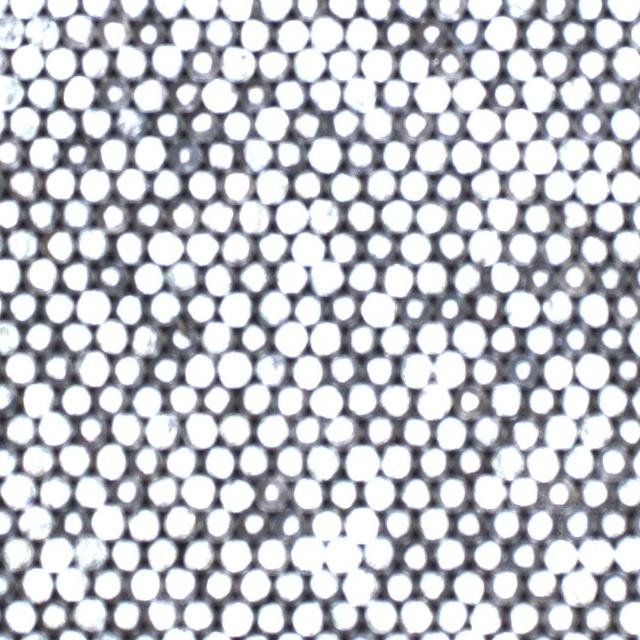tool: (37, 534, 73, 570), (145, 410, 181, 446), (470, 472, 506, 508), (414, 382, 450, 418), (72, 532, 108, 568), (342, 566, 378, 602), (2, 348, 38, 384), (218, 475, 254, 511), (468, 598, 504, 634), (162, 564, 198, 600), (560, 567, 596, 603), (486, 566, 522, 602), (92, 441, 128, 477), (53, 564, 88, 600), (343, 505, 379, 540), (505, 228, 540, 264), (503, 105, 538, 141), (578, 412, 613, 448), (1, 533, 36, 569), (342, 74, 377, 110), (578, 535, 613, 571), (324, 411, 359, 447), (542, 536, 577, 572), (379, 74, 414, 110), (128, 320, 163, 356), (218, 598, 253, 634), (306, 196, 341, 232), (255, 410, 290, 446), (273, 257, 308, 293), (181, 535, 216, 571), (308, 381, 343, 417), (253, 349, 288, 385), (432, 350, 467, 386), (325, 535, 360, 571), (414, 76, 450, 111), (449, 136, 484, 172), (398, 350, 433, 386), (0, 471, 35, 507), (37, 409, 73, 444), (484, 196, 519, 232), (126, 504, 161, 540), (216, 349, 252, 384), (360, 290, 396, 325), (344, 444, 379, 480), (218, 288, 253, 324), (17, 502, 53, 537), (360, 532, 395, 568), (163, 502, 198, 538), (2, 596, 37, 632), (184, 229, 219, 265), (255, 475, 290, 511), (413, 136, 448, 172), (398, 597, 433, 633), (504, 166, 539, 202), (236, 198, 272, 233), (236, 319, 272, 354), (361, 474, 397, 509), (132, 14, 168, 49), (520, 75, 555, 110), (219, 229, 254, 264), (144, 535, 179, 570), (166, 197, 201, 232), (326, 228, 361, 263), (148, 228, 183, 263), (290, 230, 325, 265), (485, 136, 520, 171), (557, 74, 592, 109), (433, 413, 468, 448), (470, 535, 505, 570), (218, 410, 253, 445), (466, 105, 501, 140), (433, 474, 468, 509), (254, 598, 289, 633), (504, 290, 539, 325), (396, 46, 431, 81), (75, 348, 110, 383), (255, 228, 290, 263), (467, 45, 502, 80), (290, 535, 325, 570), (379, 197, 414, 232), (452, 383, 487, 418), (219, 44, 254, 79), (20, 441, 55, 476), (290, 352, 325, 387), (291, 289, 326, 324), (470, 411, 505, 446), (180, 473, 215, 508), (37, 472, 72, 507), (540, 229, 575, 264), (542, 598, 577, 633), (236, 566, 271, 601), (362, 411, 397, 446), (486, 258, 521, 293), (326, 595, 361, 630), (345, 380, 379, 416), (398, 228, 432, 264), (468, 228, 502, 264), (255, 534, 289, 570), (90, 502, 124, 538), (344, 258, 380, 292), (25, 255, 59, 291), (520, 198, 556, 232), (183, 410, 217, 446), (308, 257, 342, 293), (506, 598, 540, 634), (380, 442, 414, 478), (522, 136, 556, 172), (433, 534, 467, 570), (26, 72, 60, 108), (381, 504, 415, 540), (78, 102, 112, 138), (308, 319, 342, 355), (360, 104, 394, 140), (9, 42, 43, 78), (7, 103, 41, 139), (236, 258, 272, 292), (452, 318, 486, 354), (362, 597, 396, 633), (557, 135, 591, 170), (165, 380, 200, 414), (127, 565, 161, 600), (43, 105, 77, 140), (306, 564, 341, 598), (344, 196, 378, 231), (131, 135, 166, 169), (327, 105, 361, 140), (202, 75, 236, 110), (379, 381, 413, 416), (256, 288, 290, 323), (290, 599, 324, 634), (218, 536, 252, 571), (524, 382, 558, 417), (274, 381, 308, 416), (558, 382, 592, 417), (202, 260, 236, 295), (130, 381, 164, 416), (290, 474, 324, 509), (450, 260, 484, 295), (559, 503, 593, 538), (201, 566, 236, 600), (201, 197, 235, 232), (20, 564, 54, 599), (576, 351, 610, 386), (416, 505, 451, 539), (595, 504, 630, 538), (182, 350, 216, 385), (147, 289, 182, 323), (40, 347, 74, 382), (5, 225, 39, 260), (75, 409, 109, 444), (256, 45, 290, 80), (453, 505, 487, 540), (274, 197, 308, 232), (432, 45, 466, 80), (523, 505, 557, 540), (543, 475, 578, 509), (557, 197, 591, 232), (90, 564, 125, 598), (508, 413, 542, 448), (505, 350, 540, 384), (469, 350, 503, 385), (129, 442, 164, 476), (165, 258, 200, 292), (557, 321, 592, 355), (397, 537, 432, 571), (306, 442, 340, 477), (201, 504, 236, 538), (432, 105, 466, 140), (202, 443, 237, 477), (574, 168, 608, 203), (415, 259, 449, 294), (326, 350, 361, 384), (344, 135, 378, 170), (131, 196, 165, 231), (150, 42, 184, 77), (164, 442, 199, 476), (326, 474, 360, 509), (542, 412, 576, 447), (524, 320, 558, 355), (74, 472, 108, 507), (469, 287, 504, 321), (381, 566, 416, 600), (524, 565, 559, 599), (576, 290, 610, 325), (55, 503, 90, 537), (488, 505, 522, 540), (112, 289, 146, 324), (540, 289, 575, 323), (558, 259, 593, 293), (596, 443, 630, 478), (180, 596, 215, 630), (344, 15, 378, 50), (598, 568, 633, 602), (468, 166, 502, 201), (591, 136, 625, 171), (168, 137, 203, 171), (200, 318, 234, 353), (72, 595, 107, 629), (525, 444, 560, 478), (488, 381, 523, 415), (58, 381, 92, 416), (362, 228, 396, 263), (594, 258, 628, 293), (110, 472, 144, 507), (326, 168, 361, 202), (489, 443, 524, 477), (220, 167, 254, 202), (273, 320, 307, 355), (144, 595, 179, 629), (522, 260, 557, 294), (61, 135, 95, 170), (109, 535, 142, 571), (76, 288, 110, 322), (42, 226, 76, 260), (76, 226, 110, 260), (307, 136, 341, 170), (254, 105, 288, 139), (21, 380, 55, 414), (594, 382, 628, 416), (26, 134, 60, 168), (96, 135, 130, 169), (94, 380, 128, 414), (26, 12, 60, 46), (78, 44, 112, 78), (204, 136, 238, 170), (380, 260, 414, 294), (291, 45, 325, 79), (451, 76, 485, 110), (56, 440, 90, 474), (44, 44, 78, 78), (452, 568, 486, 602), (308, 76, 342, 110), (506, 473, 540, 507), (114, 44, 148, 78), (168, 78, 202, 112), (574, 106, 608, 140), (183, 289, 217, 323), (41, 288, 75, 322), (397, 107, 431, 141), (238, 380, 272, 414), (399, 413, 433, 447), (5, 287, 39, 321), (415, 198, 449, 232), (504, 46, 538, 80), (272, 566, 306, 600), (290, 411, 324, 445), (432, 168, 466, 202), (254, 167, 288, 201), (239, 136, 273, 170), (508, 536, 542, 570), (61, 74, 95, 108), (484, 14, 518, 48), (398, 475, 432, 509), (98, 74, 132, 108), (398, 290, 432, 324), (308, 506, 342, 540), (132, 76, 166, 110), (114, 104, 148, 138), (540, 352, 574, 386), (308, 15, 342, 49), (94, 258, 128, 292), (580, 599, 614, 633), (43, 164, 77, 198), (561, 443, 595, 477), (59, 258, 93, 292), (61, 12, 95, 46), (434, 596, 468, 630), (360, 46, 394, 80), (290, 106, 324, 140), (380, 15, 414, 49), (168, 14, 202, 48), (114, 166, 148, 200), (415, 566, 449, 600), (110, 410, 144, 444), (274, 17, 308, 51), (22, 318, 56, 352), (238, 16, 272, 50), (538, 45, 572, 79), (112, 351, 146, 385), (594, 321, 628, 355), (416, 443, 450, 477), (146, 472, 180, 506), (184, 166, 218, 200), (58, 318, 92, 352), (94, 318, 128, 352), (415, 17, 449, 51), (449, 16, 483, 50), (8, 165, 42, 199), (37, 596, 71, 630), (362, 166, 396, 200), (415, 319, 449, 353), (184, 45, 218, 79), (165, 318, 199, 352), (25, 195, 58, 230), (451, 197, 484, 232), (327, 45, 360, 80), (434, 227, 467, 262), (452, 442, 487, 475), (273, 442, 306, 477), (540, 106, 573, 141), (186, 107, 219, 142), (201, 380, 234, 414), (380, 136, 413, 170), (577, 230, 610, 264), (327, 288, 360, 322), (4, 410, 37, 444), (220, 107, 253, 141), (274, 76, 307, 110), (131, 259, 164, 293), (379, 320, 412, 354), (77, 167, 111, 200), (202, 14, 236, 47), (149, 351, 182, 385), (273, 135, 306, 169), (97, 198, 130, 232), (150, 107, 184, 140), (362, 352, 396, 385), (593, 198, 626, 232), (556, 16, 590, 49), (487, 76, 520, 110), (113, 230, 146, 264), (98, 15, 132, 48), (150, 166, 183, 200), (290, 166, 324, 199), (237, 442, 270, 476), (540, 167, 574, 200), (487, 320, 520, 354), (522, 16, 555, 50), (590, 15, 624, 48), (397, 167, 431, 200), (59, 195, 92, 229), (238, 78, 272, 111), (109, 596, 142, 630), (433, 290, 468, 322), (275, 506, 308, 539), (578, 474, 611, 507), (238, 504, 270, 538), (576, 45, 608, 78), (345, 322, 378, 354), (592, 75, 624, 108), (609, 44, 640, 78), (609, 168, 640, 202), (609, 105, 640, 138), (611, 228, 640, 262), (611, 352, 640, 386), (611, 290, 640, 324), (612, 472, 640, 507), (613, 534, 640, 570), (613, 412, 640, 446), (0, 11, 25, 46), (0, 72, 24, 108), (0, 134, 25, 168), (616, 598, 640, 633), (0, 194, 24, 228), (0, 256, 22, 292), (0, 317, 21, 352), (432, 0, 466, 20), (539, 0, 573, 20), (220, 0, 255, 19), (256, 0, 292, 18), (361, 0, 395, 19), (572, 0, 606, 19), (0, 442, 19, 476), (396, 0, 431, 18), (466, 0, 501, 18), (0, 564, 18, 599), (326, 0, 360, 18), (503, 0, 537, 18), (184, 0, 218, 18), (0, 378, 18, 412), (292, 0, 324, 19), (80, 0, 114, 17), (151, 0, 185, 17), (115, 0, 149, 17), (0, 503, 17, 537), (608, 0, 640, 18), (44, 0, 78, 16), (9, 0, 43, 16)
